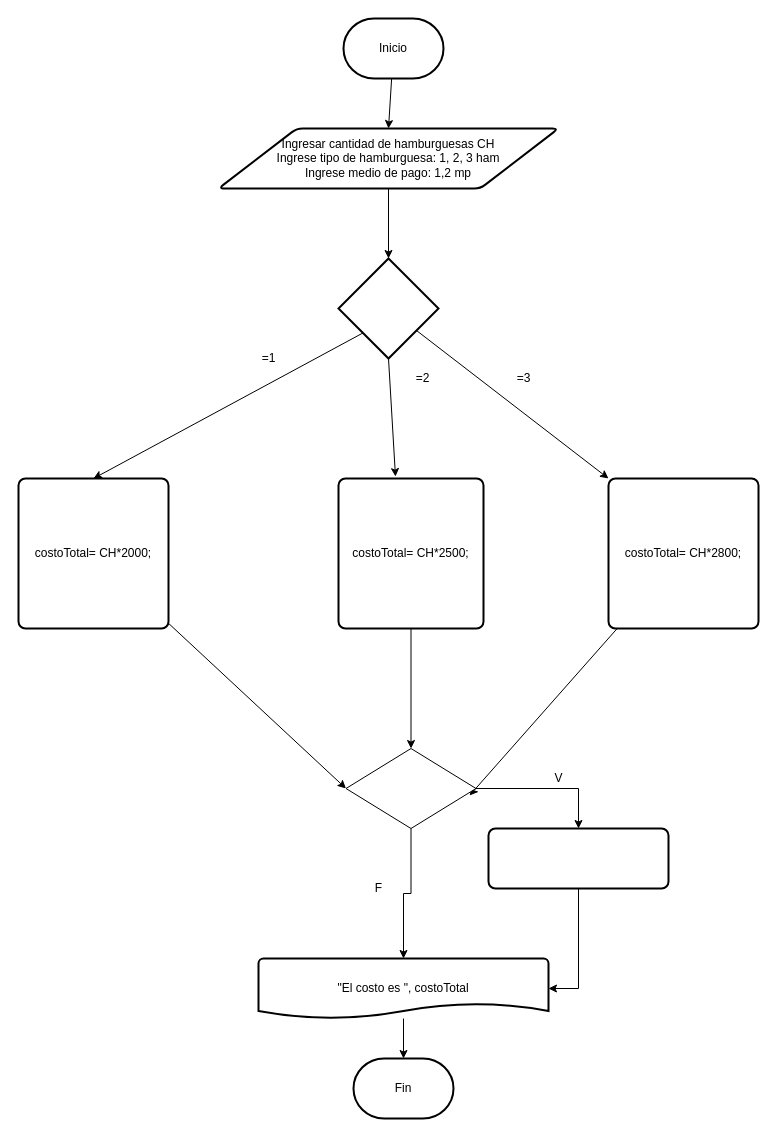
Some shapes in this 776 by 1136 pixel diagram are drawn without their labels. The centre of each missing label's shape, as x and y in pixels:
costoTotal = costoTotal*1,05: (578,858)
Evalúa ham: (388,308)
mp=1: (410,788)
